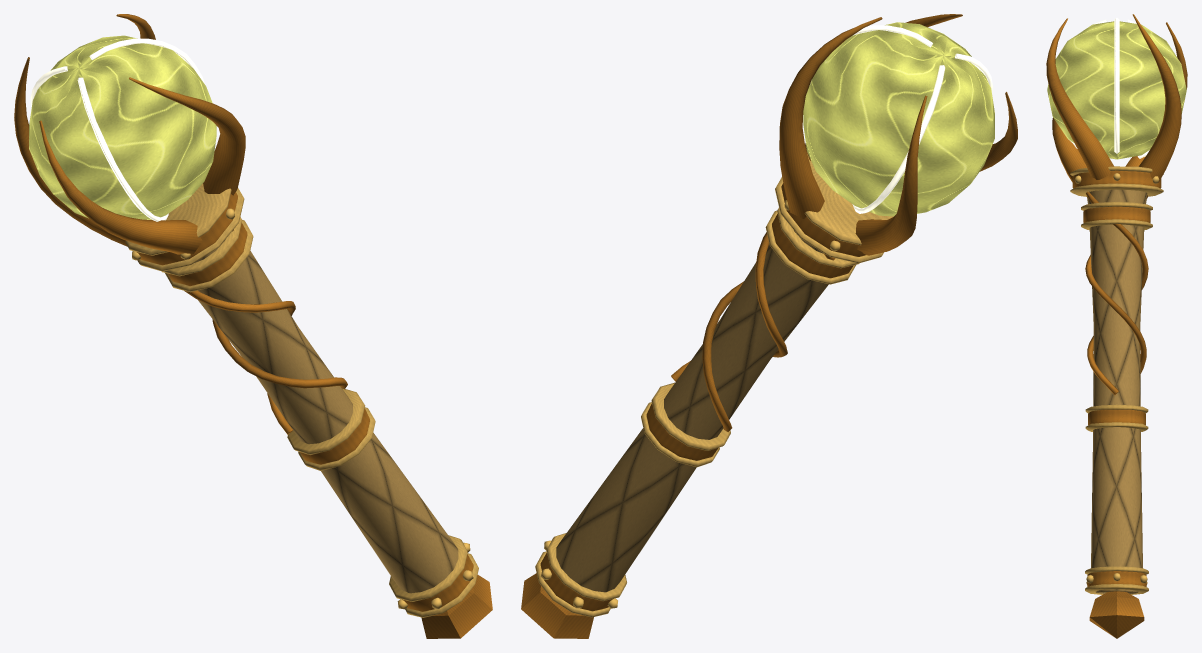
File: light_rod.glb
3 views of the same model, side by side, from view 1: azimuth 30°, elevation 25°; view 2: azimuth 150°, elevation 25°; view 3: azimuth 270°, elevation 25° (orthographic). The views are drawn at different scales.
Parts seen in each view (by area): view 1: Luminous focus, Wrapped shaft, Crown talon (×3), Collar edge (×7), Engraved collar (×4), Winding metal inlay (×2), Pommel, Focus surface arc (×2); view 2: Luminous focus, Wrapped shaft, Crown talon (×3), Collar edge (×7), Engraved collar (×4), Winding metal inlay (×2), Pommel, Focus surface arc; view 3: Wrapped shaft, Luminous focus, Crown talon (×4), Collar edge (×8), Engraved collar (×4), Pommel, Winding metal inlay (×2), Focus surface arc.
Part boxes in pixels (x1,y1,x2,y2): Luminous focus: (29, 35, 216, 220); Wrapped shaft: (195, 239, 458, 593); Crown talon (×3): (14, 57, 245, 254); Collar edge (×7): (125, 183, 467, 601); Engraved collar (×4): (136, 192, 473, 611); Winding metal inlay (×2): (184, 229, 347, 434); Pommel: (421, 575, 492, 638); Focus surface arc (×2): (77, 38, 204, 221); Luminous focus: (803, 22, 994, 216); Wrapped shaft: (556, 230, 828, 592); Crown talon (×3): (779, 17, 1017, 255); Collar edge (×7): (546, 152, 893, 601); Engraved collar (×4): (540, 183, 865, 611); Winding metal inlay (×2): (671, 232, 835, 431); Pommel: (521, 573, 593, 638); Focus surface arc: (852, 65, 945, 213); Wrapped shaft: (1087, 189, 1147, 594); Luminous focus: (1047, 21, 1186, 159); Crown talon (×4): (1046, 14, 1187, 182); Collar edge (×8): (1070, 166, 1163, 594); Engraved collar (×4): (1072, 170, 1161, 586); Pommel: (1089, 591, 1144, 638); Winding metal inlay (×2): (1085, 191, 1148, 395); Focus surface arc: (1114, 18, 1119, 153).
Bounding box in the file's own units: 267 × 382 × 97.
5 materials, 4 textured.
